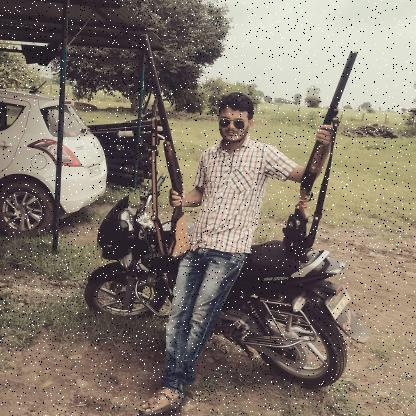rifle: (280, 48, 360, 265), (138, 31, 193, 261)
